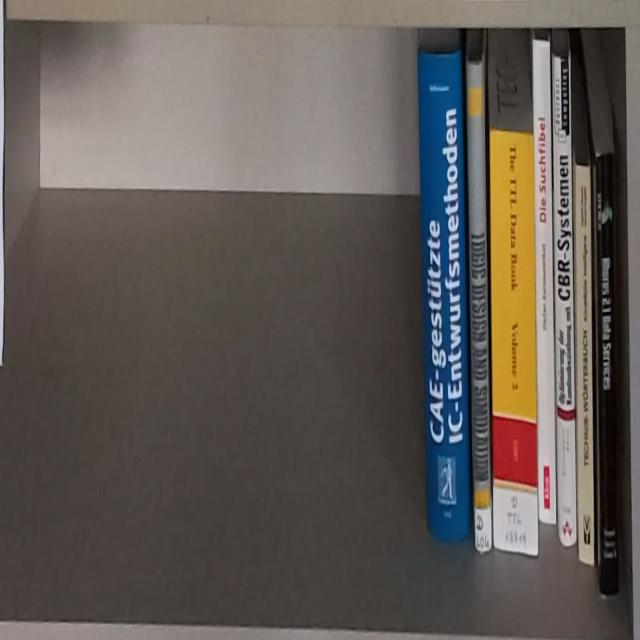Book Spine: (416, 50, 471, 544), (490, 128, 539, 556), (467, 59, 492, 557), (594, 139, 621, 599), (532, 35, 557, 525), (552, 55, 576, 551), (573, 161, 595, 572)
